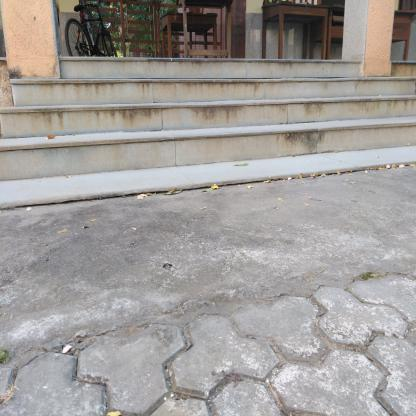stairs: (62, 54, 362, 164)
